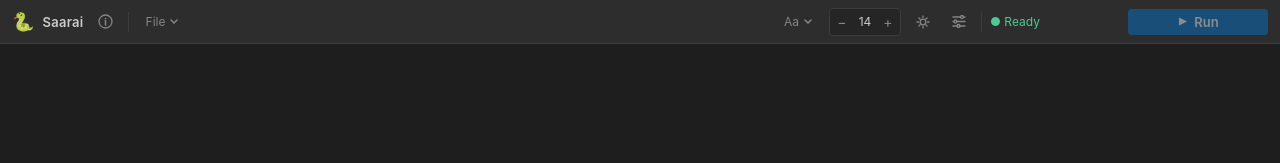
Test: Toolbar — Save in File menu › Save item is disabled when canSave is false
This screenshot has width=1280, height=163.
Click the button "File" at (162, 22), box [136,8,187,36]
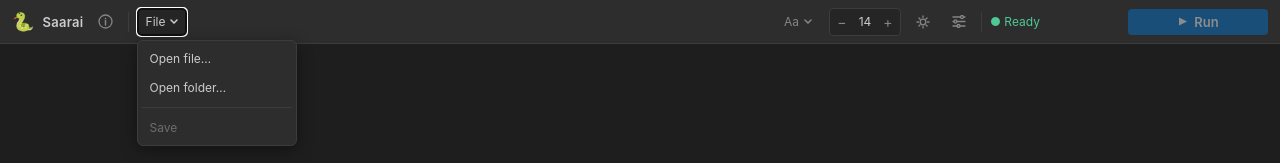
expect the menu item "Save" is disabled: met, box [142,114,292,140]
